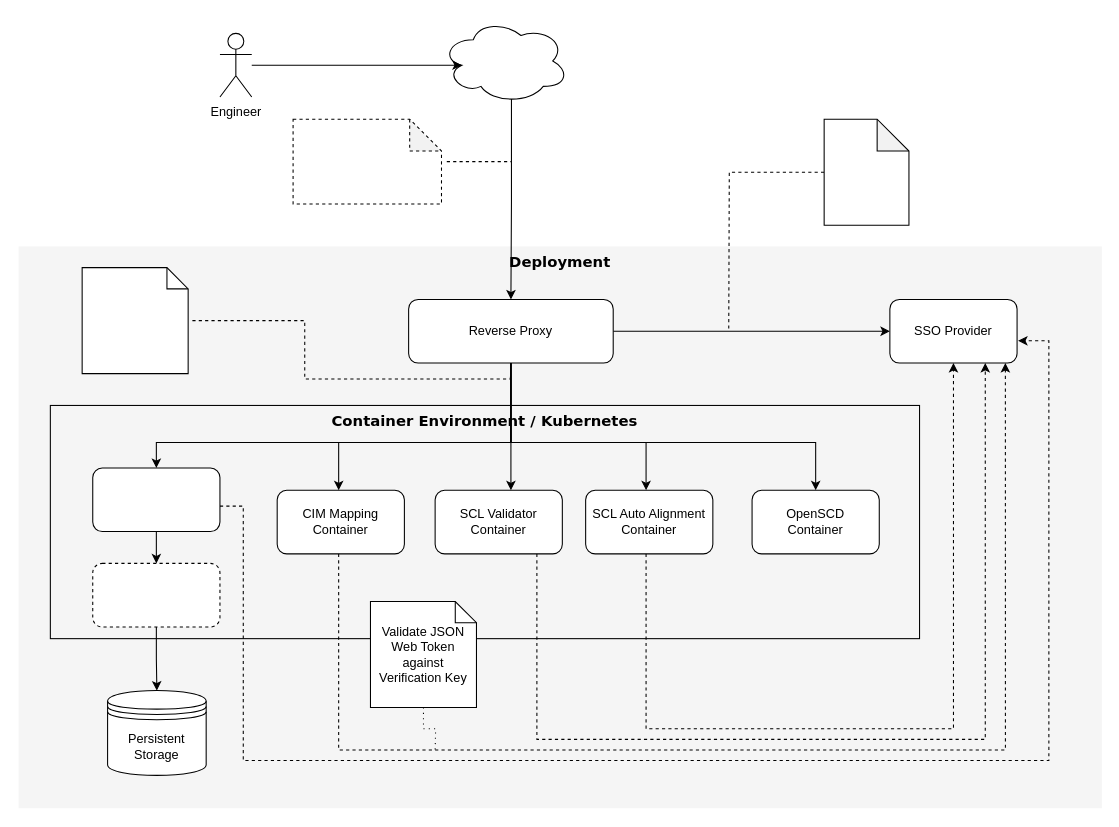
Image size: 1119x827. Some labels were removed from this diagram. Here are the shapes that lost their labels. From the top down, the centre of each, then its label:
At (x=504, y=60): "Internet".
At (x=366, y=161): "Single URL to access both Web Application and REST Services".
At (x=866, y=171): "User logs in using a SSO Provider".
At (x=134, y=320): "Injects a JSON Web Token with credentials and roles".
At (x=156, y=499): "SCL Data Container".
At (x=156, y=594): "BaseX / PostgreSQL Database".
